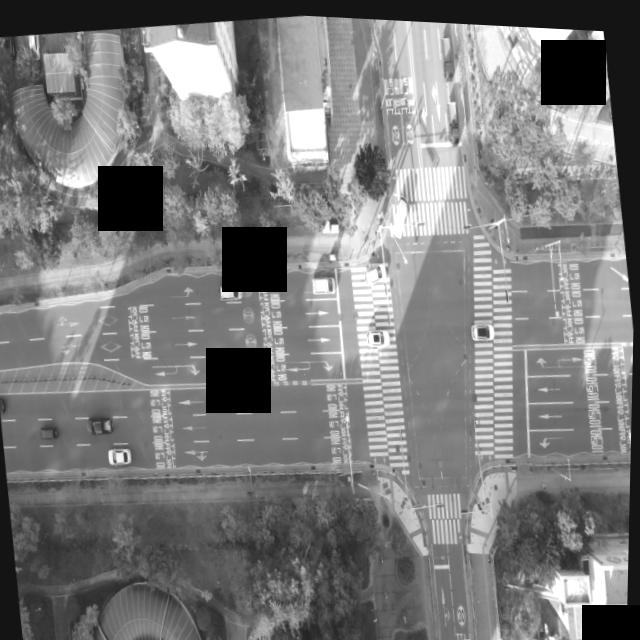car: (472, 313, 498, 337), (363, 257, 387, 282), (89, 414, 115, 434), (314, 272, 338, 293), (110, 444, 133, 464), (220, 281, 242, 301), (368, 324, 391, 343), (41, 423, 62, 440), (0, 396, 8, 414)
small_truck: (391, 189, 413, 234), (446, 96, 463, 143), (439, 32, 455, 78)
